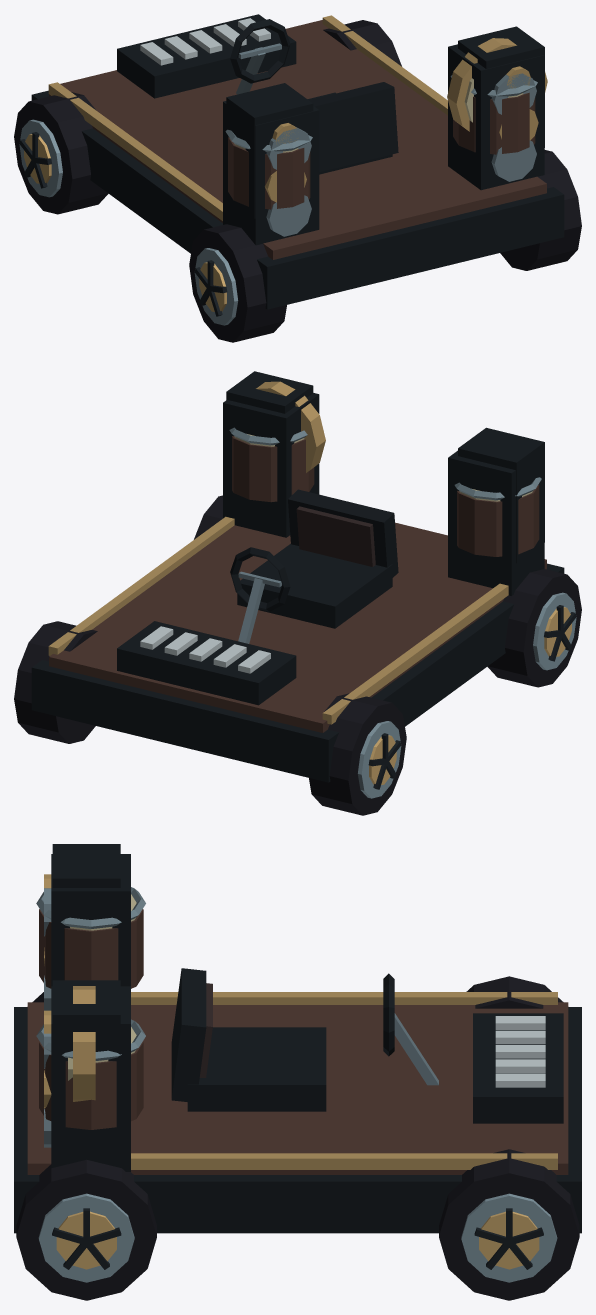
Rendered from kart.glb.
The picture shows the model from 3 angles, top to bottom: view 1: azimuth 30°, elevation 25°; view 2: azimuth 150°, elevation 25°; view 3: azimuth 270°, elevation 25°; orthographic projection. The views are drawn at different scales.
Visible parts, largest first — view 1: identity-stage-stage-platform-and-pa-towers, identity-stage-driver-cockpit, wheel-front-left, wheel-rear-left, identity-stage-motif-speakers, identity-stage-motif-drums, wheel-rear-right, identity-stage-motif-clock, wheel-front-right; view 2: identity-stage-stage-platform-and-pa-towers, identity-stage-driver-cockpit, identity-stage-motif-drums, wheel-front-left, wheel-rear-left, identity-stage-motif-speakers, wheel-front-right, identity-stage-motif-clock; view 3: identity-stage-stage-platform-and-pa-towers, identity-stage-driver-cockpit, wheel-front-right, wheel-rear-right, identity-stage-motif-drums, identity-stage-motif-speakers, identity-stage-motif-clock, wheel-front-left.
Boxes of the visible parts, <box> form: identity-stage-stage-platform-and-pa-towers: <box>31,14,564,309</box>; identity-stage-driver-cockpit: <box>230,19,398,174</box>; wheel-front-left: <box>14,92,108,214</box>; wheel-rear-left: <box>189,224,286,342</box>; identity-stage-motif-speakers: <box>226,26,544,218</box>; identity-stage-motif-drums: <box>225,75,537,209</box>; wheel-rear-right: <box>500,150,581,270</box>; identity-stage-motif-clock: <box>447,38,547,131</box>; wheel-front-right: <box>323,20,401,66</box>; identity-stage-stage-platform-and-pa-towers: <box>31,393,564,782</box>; identity-stage-driver-cockpit: <box>230,489,398,643</box>; identity-stage-motif-drums: <box>229,427,541,556</box>; wheel-front-left: <box>309,693,406,815</box>; wheel-rear-left: <box>487,569,581,687</box>; identity-stage-motif-speakers: <box>226,371,544,563</box>; wheel-front-right: <box>14,621,97,743</box>; identity-stage-motif-clock: <box>256,381,325,472</box>; identity-stage-stage-platform-and-pa-towers: <box>14,854,581,1233</box>; identity-stage-driver-cockpit: <box>171,968,438,1111</box>; wheel-front-right: <box>439,1149,579,1300</box>; wheel-rear-right: <box>16,1159,156,1300</box>; identity-stage-motif-drums: <box>36,887,145,1129</box>; identity-stage-motif-speakers: <box>44,844,120,1136</box>; identity-stage-motif-clock: <box>68,986,95,1101</box>; wheel-front-left: <box>466,976,563,1008</box>.
Size of the model in its own units: 2.16 by 1.35 by 2.5.
